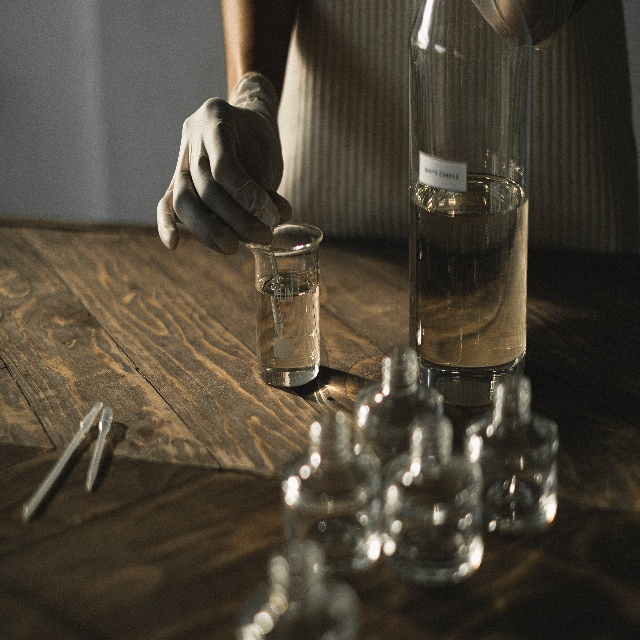Guantes: (156, 71, 293, 256), (471, 0, 571, 52)
